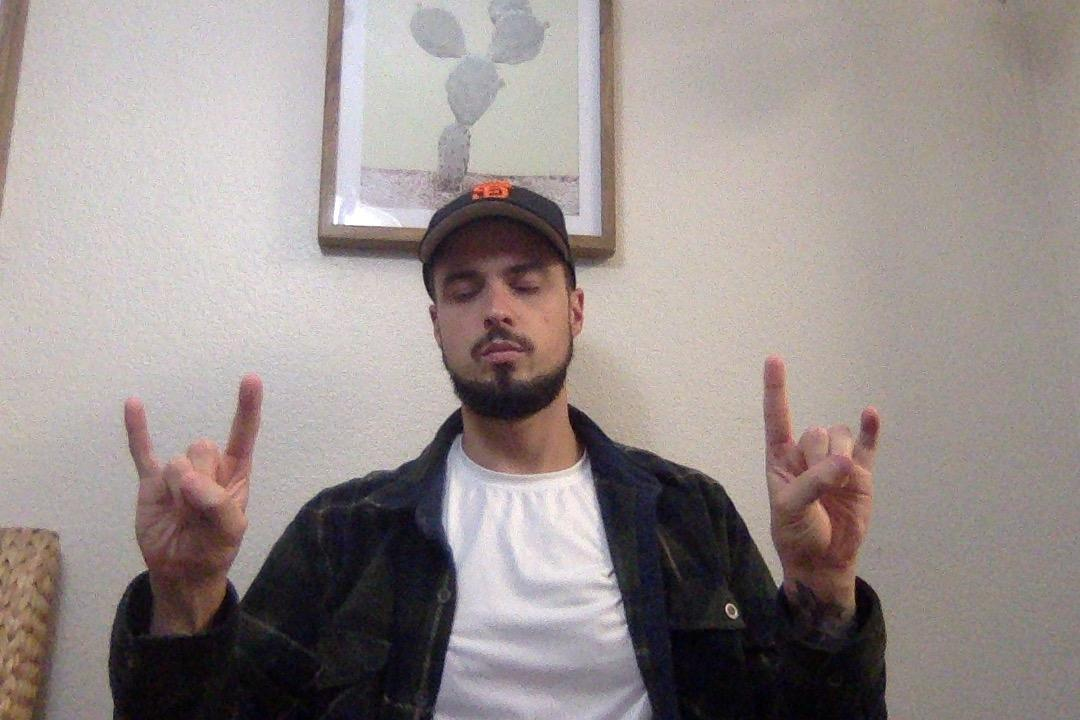Rock: (120, 367, 265, 622), (750, 345, 893, 588)
